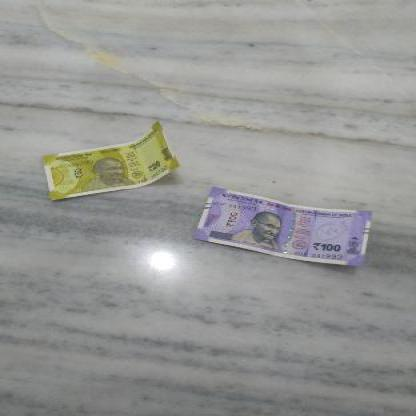New100Front: (200, 182, 375, 266)
New20Front: (36, 120, 175, 193)
